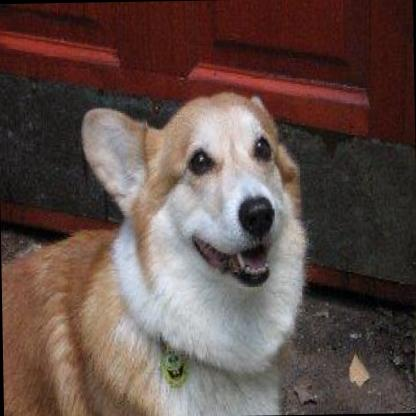Pembroke: (0, 76, 318, 414)
